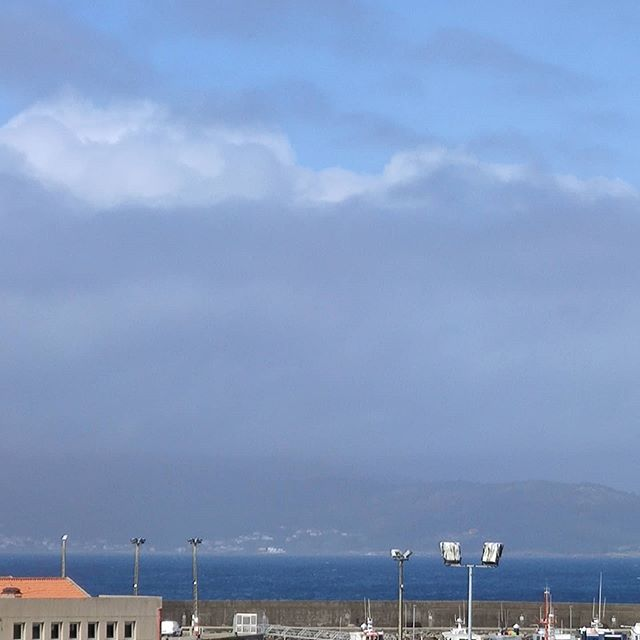building: (1, 581, 162, 640)
light pole: (440, 535, 510, 640), (387, 543, 416, 639)
sea: (15, 553, 640, 597)
sky: (14, 1, 640, 438)
